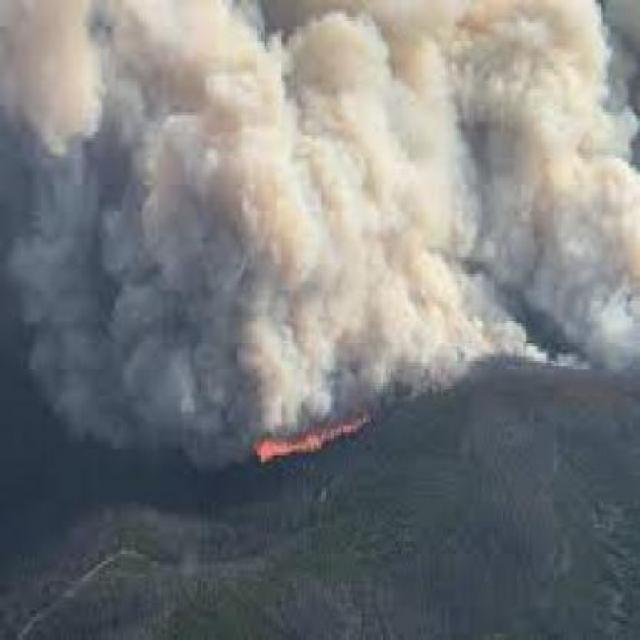Fire: (237, 386, 370, 489)
Smoke: (4, 3, 640, 401)
